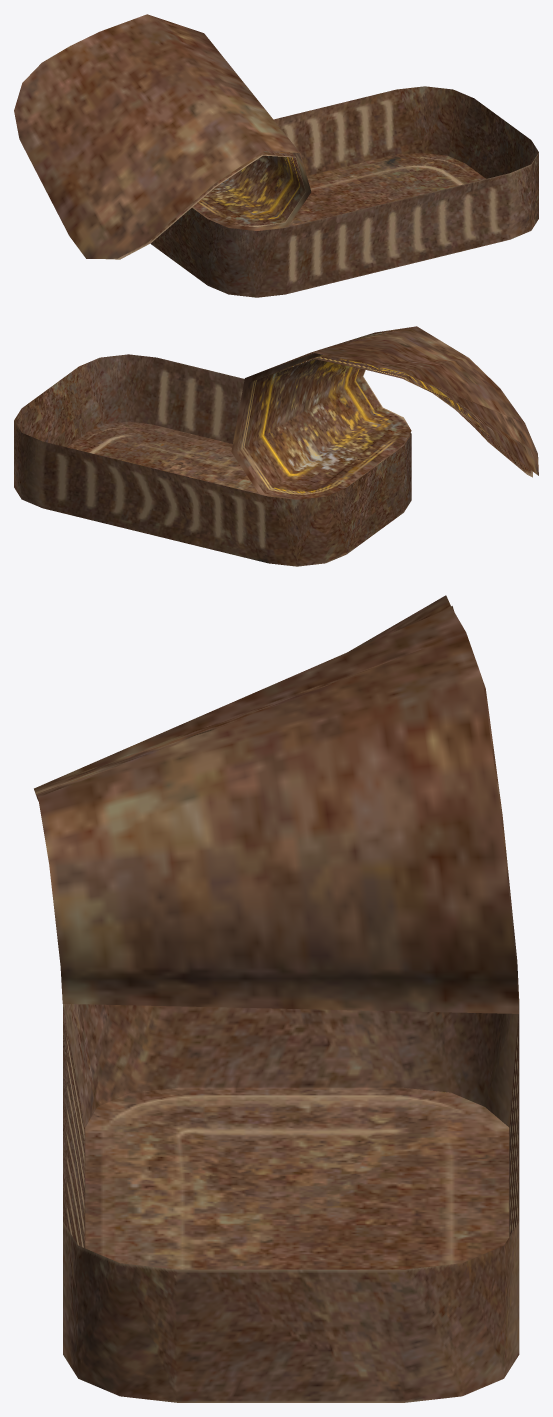
File: SM_TrashCan_05_F.fbx
The picture shows the model from 3 angles, top to bottom: view 1: azimuth 30°, elevation 25°; view 2: azimuth 150°, elevation 25°; view 3: azimuth 270°, elevation 25°; orthographic projection. The views are drawn at different scales.
Parts seen in each view (by area): view 1: SM_TrashCan_05_F; view 2: SM_TrashCan_05_F; view 3: SM_TrashCan_05_F.
Part boxes in pixels (bbox=[...]): SM_TrashCan_05_F: bbox=[14, 14, 538, 297]; SM_TrashCan_05_F: bbox=[14, 326, 538, 566]; SM_TrashCan_05_F: bbox=[34, 595, 519, 1402].
Size of the model in its own units: 25.74 by 11.71 by 11.26.
1 material, 1 textured.
